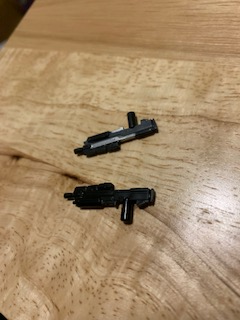rifle: (72, 110, 160, 162), (64, 181, 159, 227)
